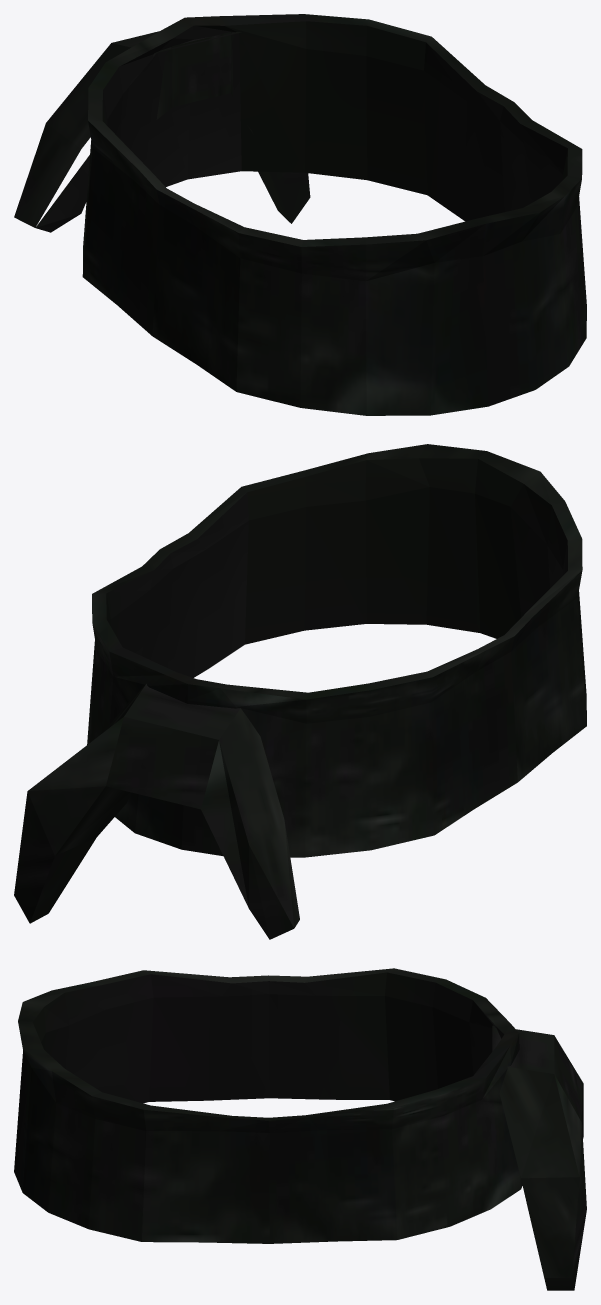
Rendered from OPASKA.glb.
The picture shows the model from 3 angles, top to bottom: view 1: azimuth 30°, elevation 25°; view 2: azimuth 150°, elevation 25°; view 3: azimuth 270°, elevation 25°; orthographic projection. The views are drawn at different scales.
Visible parts, largest first — view 1: OPASKA; view 2: OPASKA; view 3: OPASKA.
Part boxes in pixels (x1,y1,x2,y2): OPASKA: (14, 14, 586, 415); OPASKA: (14, 444, 586, 939); OPASKA: (14, 968, 586, 1290).
Size of the model in its own units: 0.1793 by 0.1237 by 0.2931.
1 material, 1 textured.
